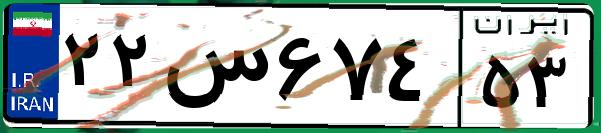2: (57, 26, 110, 100), (110, 28, 158, 98)
3: (525, 38, 570, 115)
4: (385, 28, 445, 110)
5: (475, 38, 525, 113)
6: (270, 28, 330, 110)
7: (330, 28, 385, 110)
س: (158, 20, 270, 120)
